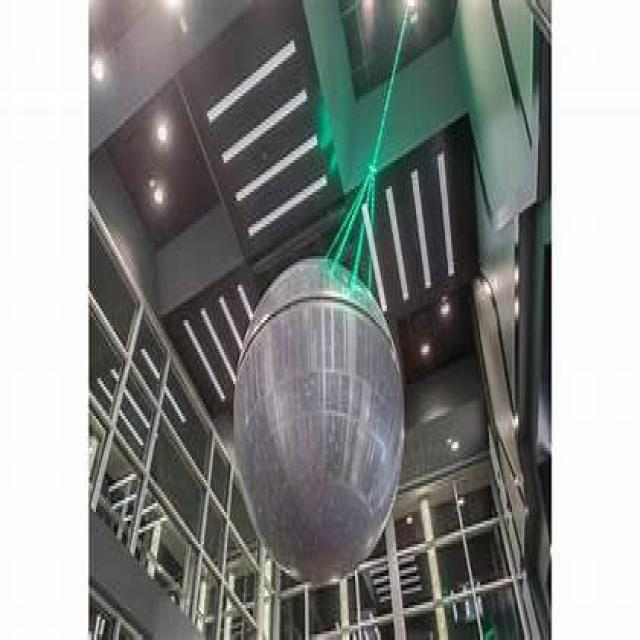deathStar: (233, 251, 403, 581)
